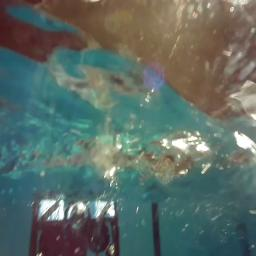front: (30, 198, 120, 256)
